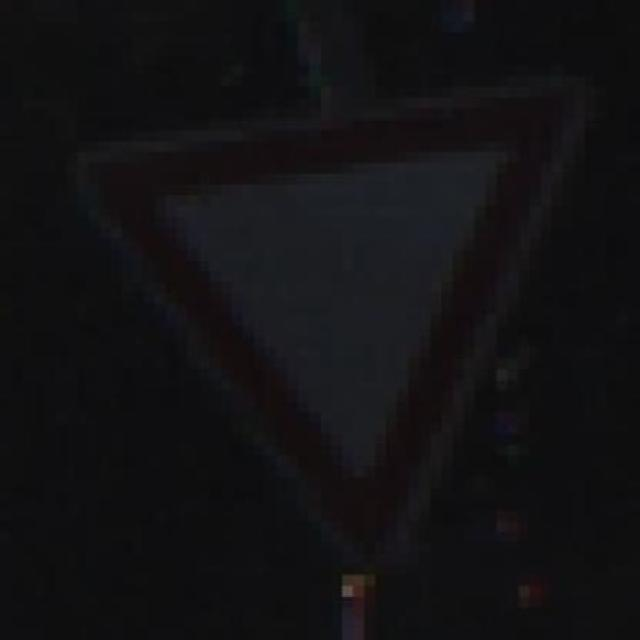Give Way: (44, 54, 618, 597)
